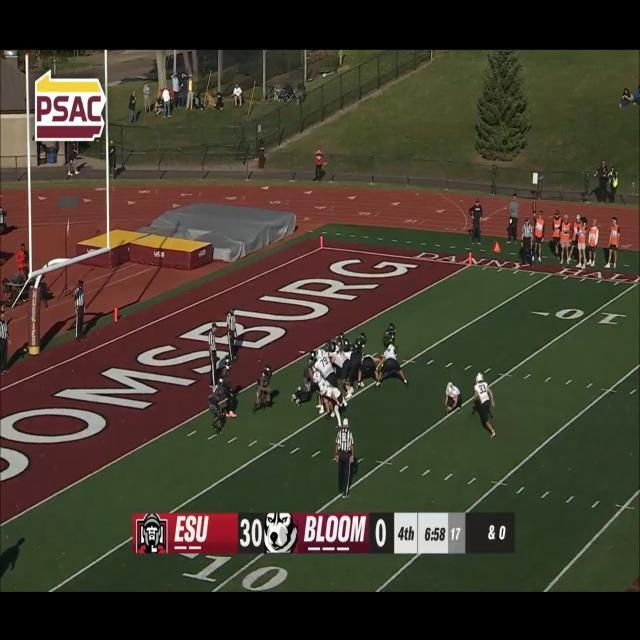football: (442, 404, 452, 416)
